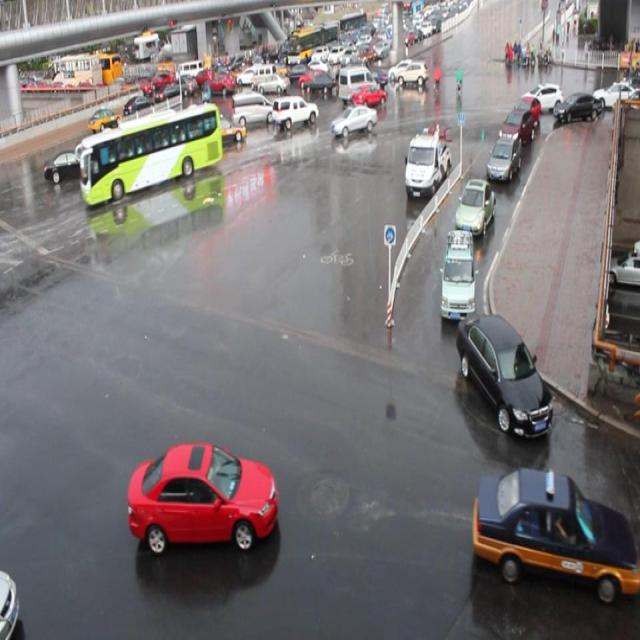bus: (403, 129, 450, 202)
car: (471, 465, 640, 603), (126, 441, 276, 551), (457, 311, 552, 437), (440, 230, 476, 320), (454, 178, 495, 234), (199, 112, 247, 150), (44, 148, 96, 183), (144, 126, 192, 160), (166, 108, 209, 144), (485, 136, 520, 180), (330, 105, 377, 137), (272, 95, 318, 127), (498, 108, 532, 144), (113, 129, 153, 158), (517, 94, 543, 132), (351, 82, 386, 109)
truck: (232, 90, 276, 125), (338, 65, 378, 100)
van: (80, 103, 220, 203)
